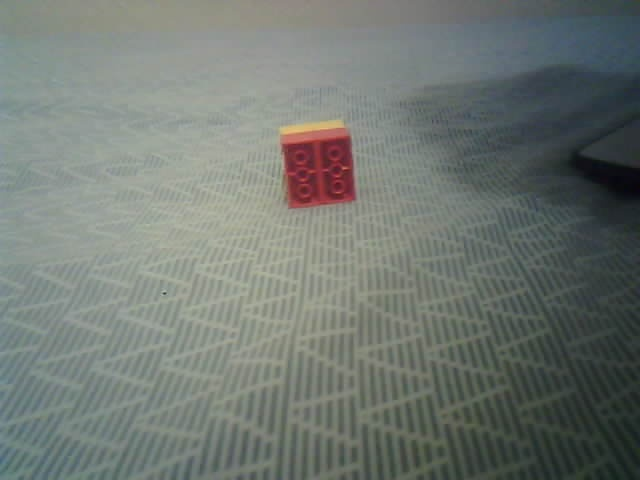lego: (277, 117, 358, 210)
